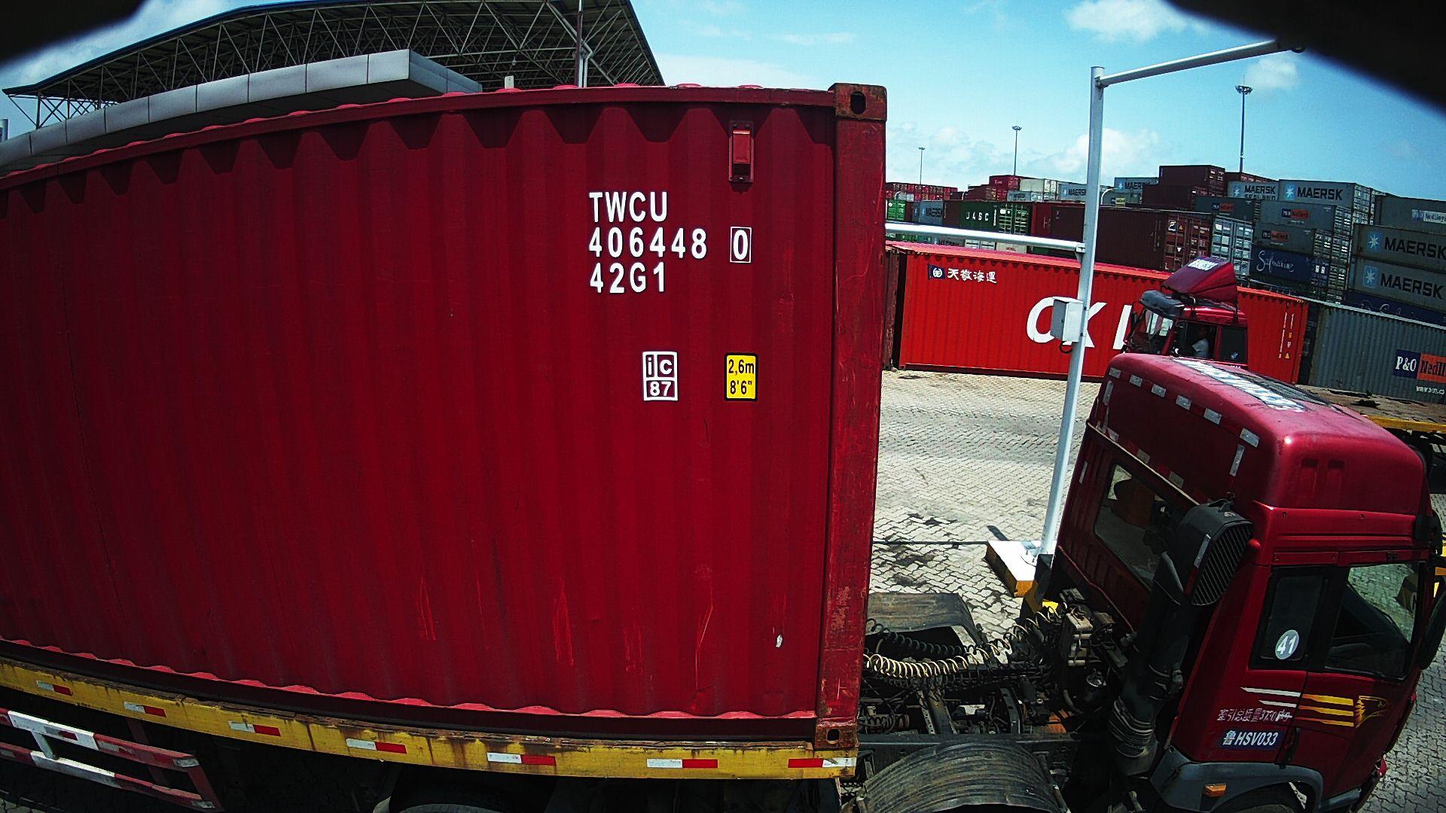container-numbers: (585, 223, 754, 264), (586, 260, 670, 298), (587, 188, 671, 225)
